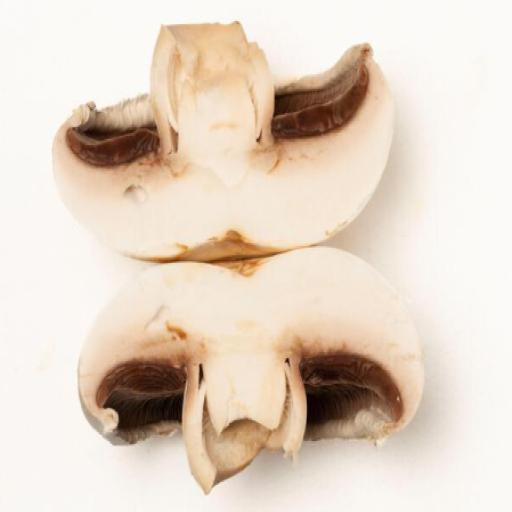Button Mushroom: (76, 246, 429, 495), (48, 15, 399, 265)
